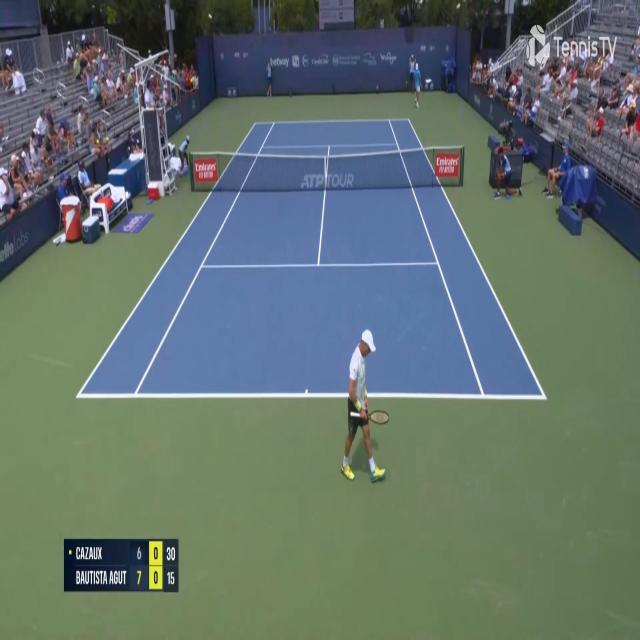tennis-player: (337, 326, 392, 488), (403, 54, 422, 110)
